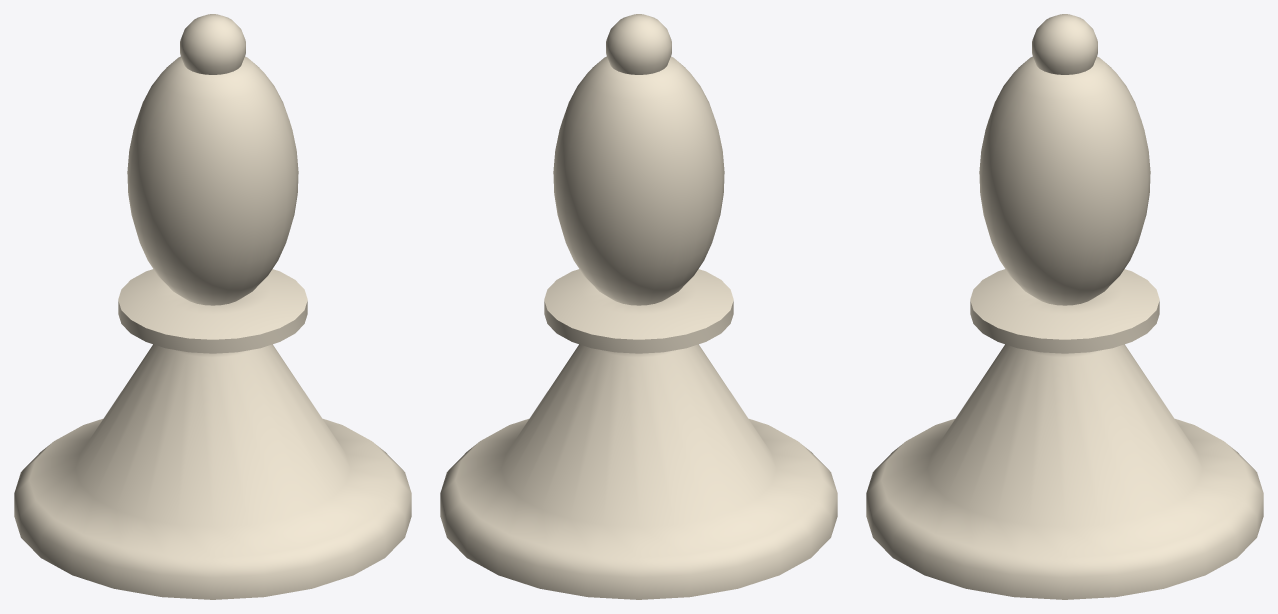
The model's file is white_bishop.glb.
3 views of the same model, side by side, from view 1: azimuth 30°, elevation 25°; view 2: azimuth 150°, elevation 25°; view 3: azimuth 270°, elevation 25° (orthographic).
Visible parts, largest first — view 1: white_bishop; view 2: white_bishop; view 3: white_bishop.
Part boxes in pixels (left/top/right/bottom): white_bishop: left=14, top=14, right=411, bottom=599; white_bishop: left=440, top=14, right=837, bottom=599; white_bishop: left=866, top=14, right=1263, bottom=599.
Bounding box in the file's own units: 0.026 × 0.036 × 0.026.
